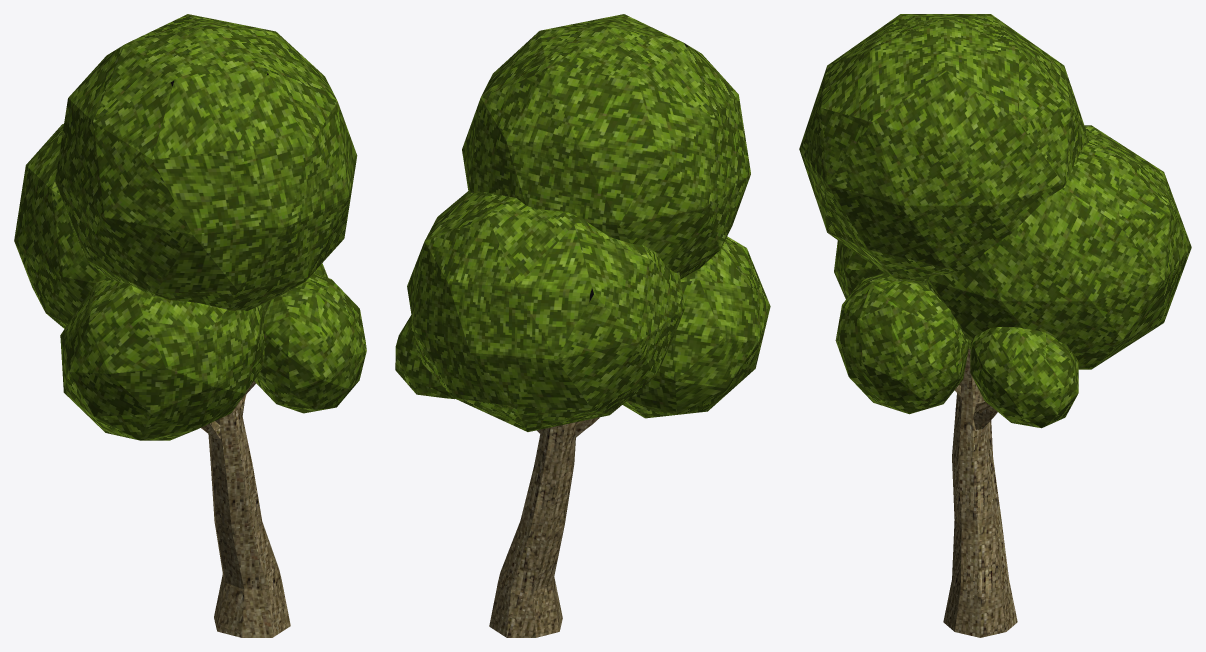
File: Tree2.fbx
3 views of the same model, side by side, from view 1: azimuth 30°, elevation 25°; view 2: azimuth 150°, elevation 25°; view 3: azimuth 270°, elevation 25° (orthographic). The views are drawn at different scales.
Parts seen in each view (by area): view 1: Cube; view 2: Cube; view 3: Cube.
Boxes of the visible parts, left/top/right/bottom form: Cube: left=14, top=14, right=366, bottom=637; Cube: left=395, top=14, right=770, bottom=637; Cube: left=799, top=14, right=1191, bottom=637.
Bounding box in the file's own units: 1415 × 2687 × 1668.
1 material, 1 textured.
